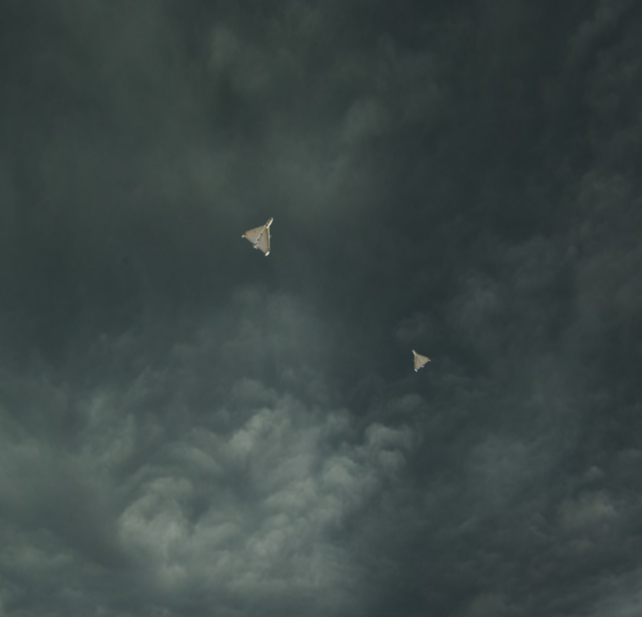military drone: (240, 216, 273, 256), (411, 349, 431, 372)
